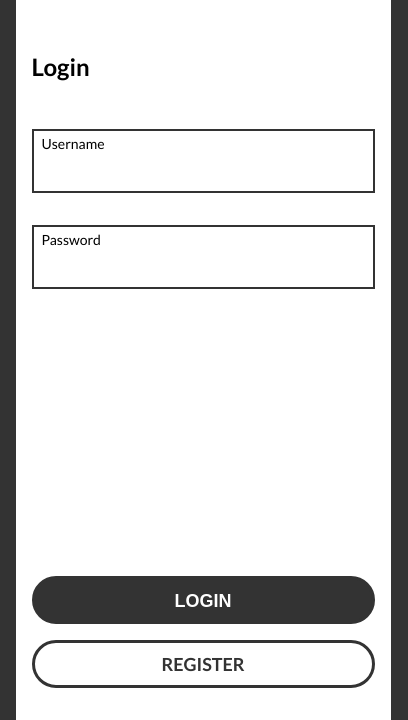
Scenario: login flow
Type "test" into the field labelled "Username" at (203, 167), box [42,151,364,183]
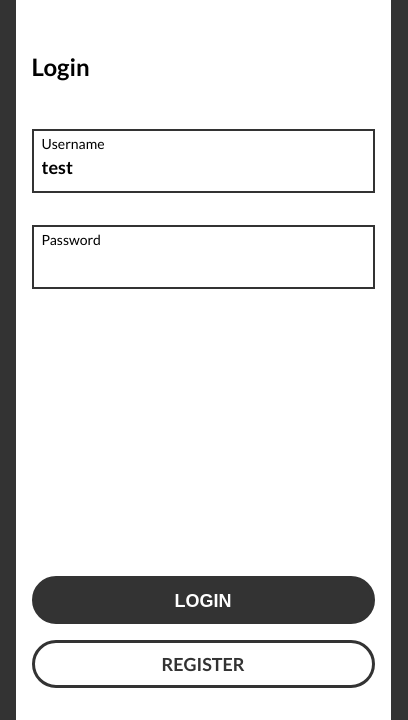
Type "asdasd" into the password field labelled "Password" at (203, 263), box [42,247,364,279]
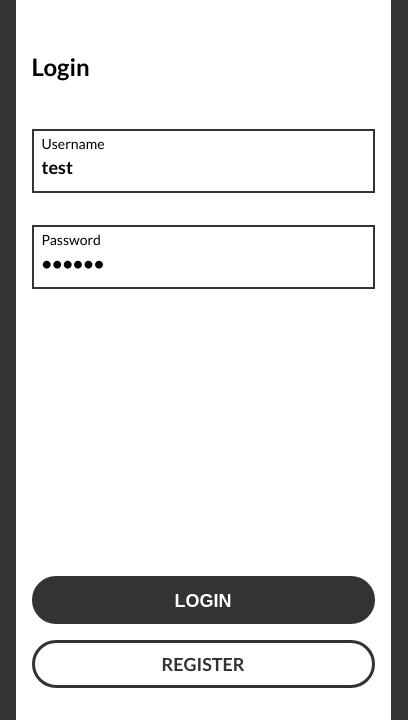
Click the button "LOGIN" at (203, 600), box [32,576,374,624]
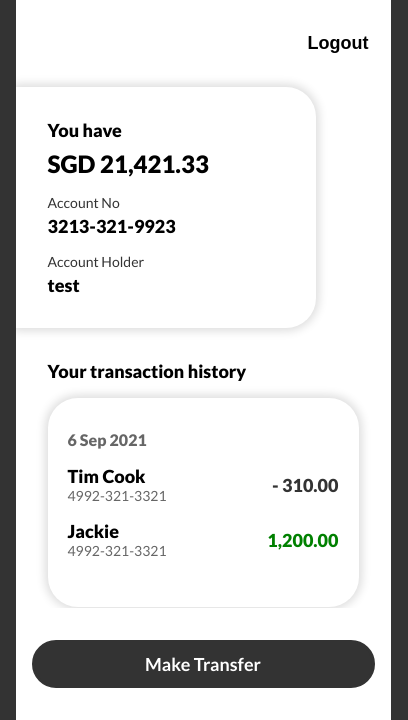
Expected: the heading "SGD 21,421.33" is shown, [48,149,209,178]
